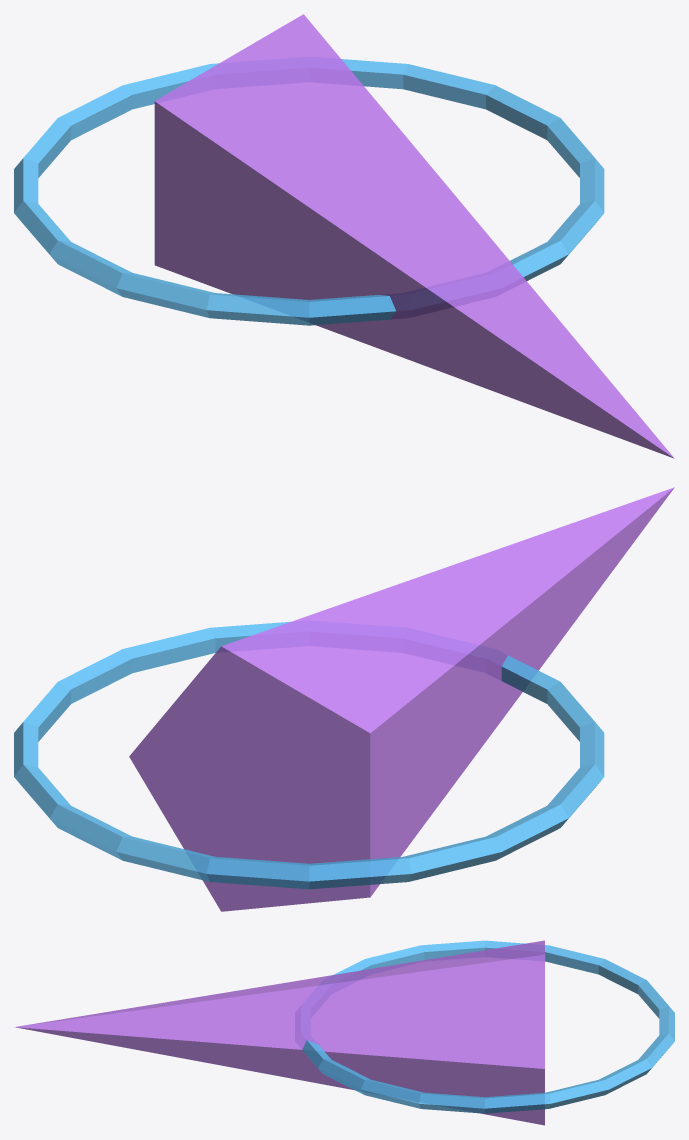
The model's file is cosmic_star_crystal.glb.
The picture shows the model from 3 angles, top to bottom: view 1: azimuth 30°, elevation 25°; view 2: azimuth 150°, elevation 25°; view 3: azimuth 270°, elevation 25°; orthographic projection. The views are drawn at different scales.
Parts seen in each view (by area): view 1: crystal_main, orbit_ring; view 2: crystal_main, orbit_ring; view 3: crystal_main, orbit_ring.
Boxes of the visible parts, x1,y1,x2,y2 form: crystal_main: [154, 14, 674, 458]; orbit_ring: [14, 59, 604, 325]; crystal_main: [129, 487, 674, 911]; orbit_ring: [14, 621, 604, 889]; crystal_main: [14, 940, 544, 1125]; orbit_ring: [302, 940, 674, 1113].
Bounding box in the file's own units: 1.09 × 0.5326 × 1.87.
